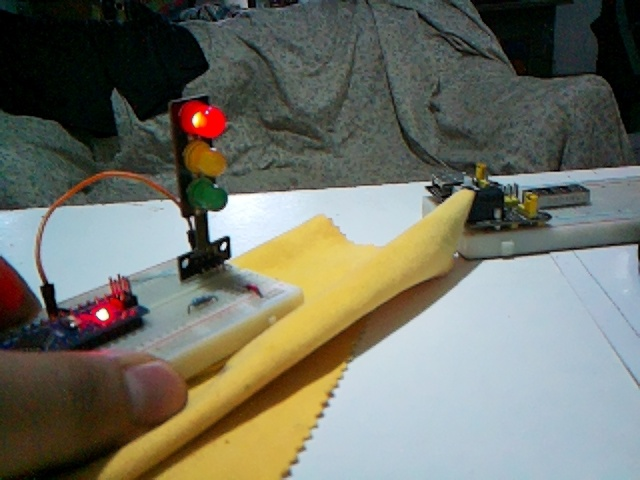traffic_light_red: (170, 96, 231, 276)
